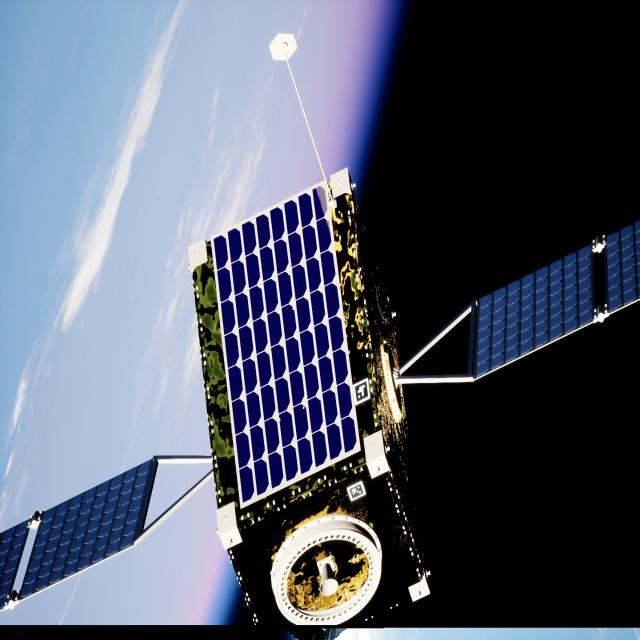medium_debris: (0, 171, 640, 640)
